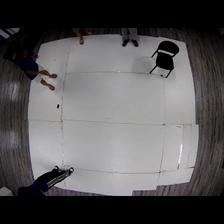normal: (8, 42, 60, 92)
